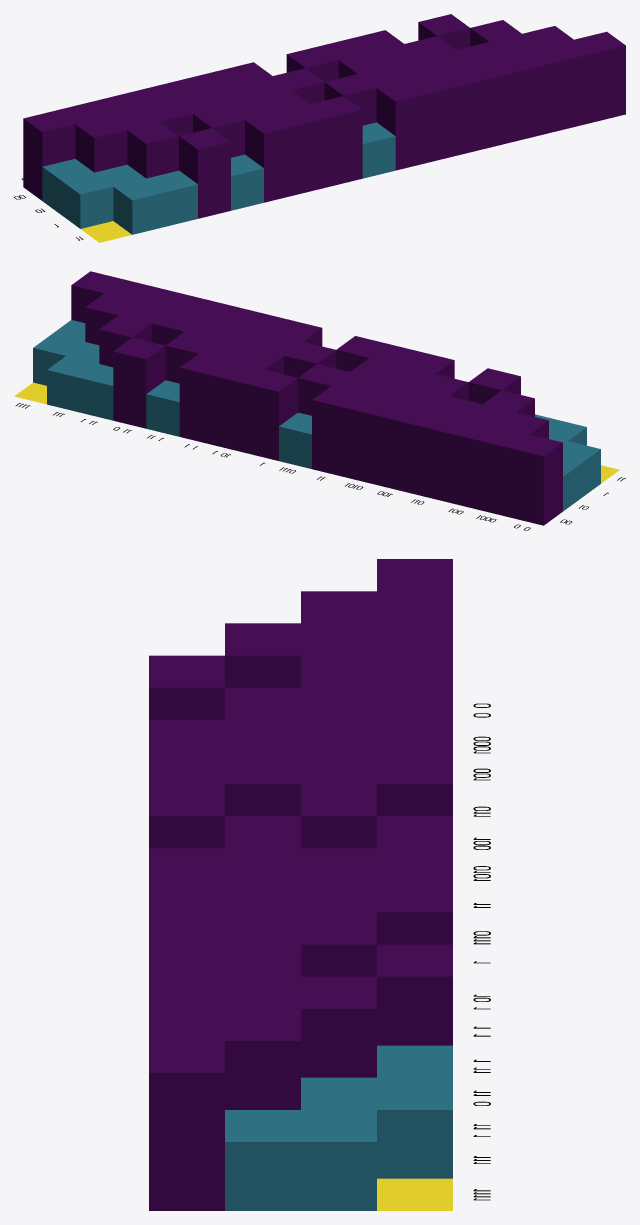
3 views of the same model, one above another, from view 1: azimuth 30°, elevation 25°; view 2: azimuth 150°, elevation 25°; view 3: azimuth 270°, elevation 25° (orthographic). The views are drawn at different scales.
Visible parts, largest first — view 1: Object(10,4)[length_2], Object(4,4)[length_2], Object(6,4)[length_2], Object(1,1)[length_2], Object(8,4)[length_2], Object(11,4)[length_2], Object(12,4)[length_2], Object(14,4)[length_2], Object(13,4)[length_2], Object(16,4)[length_2], Object(15,4)[length_2], Object(7,4)[length_2] (+40 smaller); view 2: Object(1,1)[length_2], Object(13,1)[length_2], Object(9,1)[length_2], Object(2,1)[length_2], Object(4,1)[length_2], Object(5,1)[length_2], Object(6,1)[length_2], Object(10,1)[length_2], Object(11,1)[length_2], Object(3,1)[length_2], Object(7,1)[length_2], Object(15,1)[length_1] (+43 smaller); view 3: Object(16,4)[length_2], Object(13,1)[length_2], Object(14,2)[length_2], Object(15,1)[length_1], Object(15,3)[length_2], Object(16,2)[length_1], Object(16,3)[length_1], Object(3,3)[length_2], Object(4,4)[length_2], Object(8,2)[length_2], Object(8,4)[length_2], Object(11,1)[length_2] (+38 smaller).
Part boxes in pixels (x1,y1,x2,y2): Object(10,4)[length_2]: (376, 80, 428, 170); Object(4,4)[length_2]: (179, 128, 230, 218); Object(6,4)[length_2]: (245, 112, 296, 202); Object(1,1)[length_2]: (23, 110, 75, 200); Object(8,4)[length_2]: (311, 96, 362, 186); Object(11,4)[length_2]: (410, 72, 461, 162); Object(12,4)[length_2]: (442, 64, 494, 154); Object(14,4)[length_2]: (508, 48, 560, 138); Object(13,4)[length_2]: (475, 56, 527, 146); Object(16,4)[length_2]: (574, 31, 625, 122); Object(15,4)[length_2]: (541, 40, 592, 130); Object(7,4)[length_2]: (278, 104, 329, 194); Object(1,1)[length_2]: (510, 434, 562, 525); Object(13,1)[length_2]: (113, 337, 165, 428); Object(9,1)[length_2]: (245, 370, 297, 460); Object(2,1)[length_2]: (477, 426, 529, 517); Object(4,1)[length_2]: (411, 410, 462, 501); Object(5,1)[length_2]: (378, 402, 429, 493); Object(6,1)[length_2]: (345, 394, 396, 485); Object(10,1)[length_2]: (212, 362, 264, 452); Object(11,1)[length_2]: (179, 353, 231, 444); Object(3,1)[length_2]: (444, 418, 495, 509); Object(7,1)[length_2]: (312, 386, 363, 476); Object(15,1)[length_1]: (47, 356, 98, 412); Object(16,4)[length_2]: (149, 1041, 224, 1210); Object(13,1)[length_2]: (377, 944, 452, 1045); Object(14,2)[length_2]: (301, 976, 376, 1077); Object(15,1)[length_1]: (377, 1077, 452, 1178); Object(15,3)[length_2]: (225, 1009, 300, 1109); Object(16,2)[length_1]: (301, 1110, 376, 1210); Object(16,3)[length_1]: (225, 1110, 300, 1210); Object(3,3)[length_2]: (225, 623, 300, 687); Object(4,4)[length_2]: (149, 655, 224, 719); Object(8,2)[length_2]: (301, 784, 376, 848); Object(8,4)[length_2]: (149, 784, 224, 848); Object(11,1)[length_2]: (377, 880, 452, 944).
Bounding box in the file's own units: 16.54 × 2 × 4.5.
